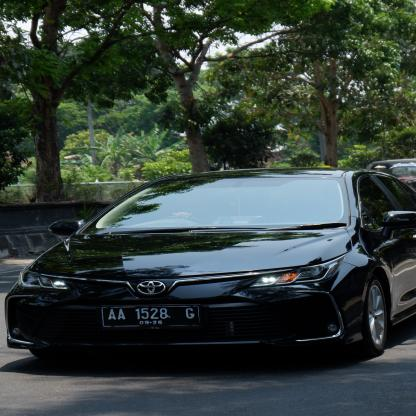Plat-Nomor: (98, 302, 204, 334)
